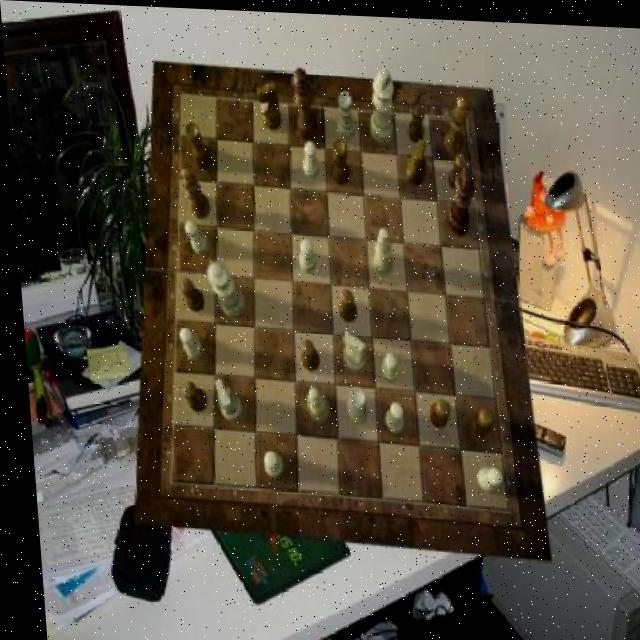bishop: (440, 92, 468, 151), (180, 166, 209, 218)
black-bishop: (441, 161, 476, 233)
black-king: (255, 78, 281, 128), (401, 134, 427, 182)
black-knight: (176, 276, 201, 311), (445, 149, 467, 187), (177, 381, 203, 413), (464, 403, 489, 435), (405, 100, 425, 139), (295, 337, 315, 371), (333, 287, 353, 321), (422, 397, 446, 425)
black-pawn: (291, 66, 319, 140)
black-queen: (183, 121, 211, 168), (327, 136, 349, 182)
black-rook: (368, 225, 391, 273), (300, 385, 325, 420)
white-bishop: (364, 63, 396, 142)
white-king: (210, 377, 238, 420), (337, 330, 362, 370)
white-knight: (182, 218, 207, 253), (174, 324, 197, 359), (471, 463, 497, 490), (300, 138, 318, 176), (295, 236, 314, 271), (378, 399, 397, 432), (375, 349, 394, 381), (257, 448, 277, 475)
white-pawn: (203, 259, 242, 316)
white-queen: (334, 89, 354, 137), (340, 383, 362, 422)
